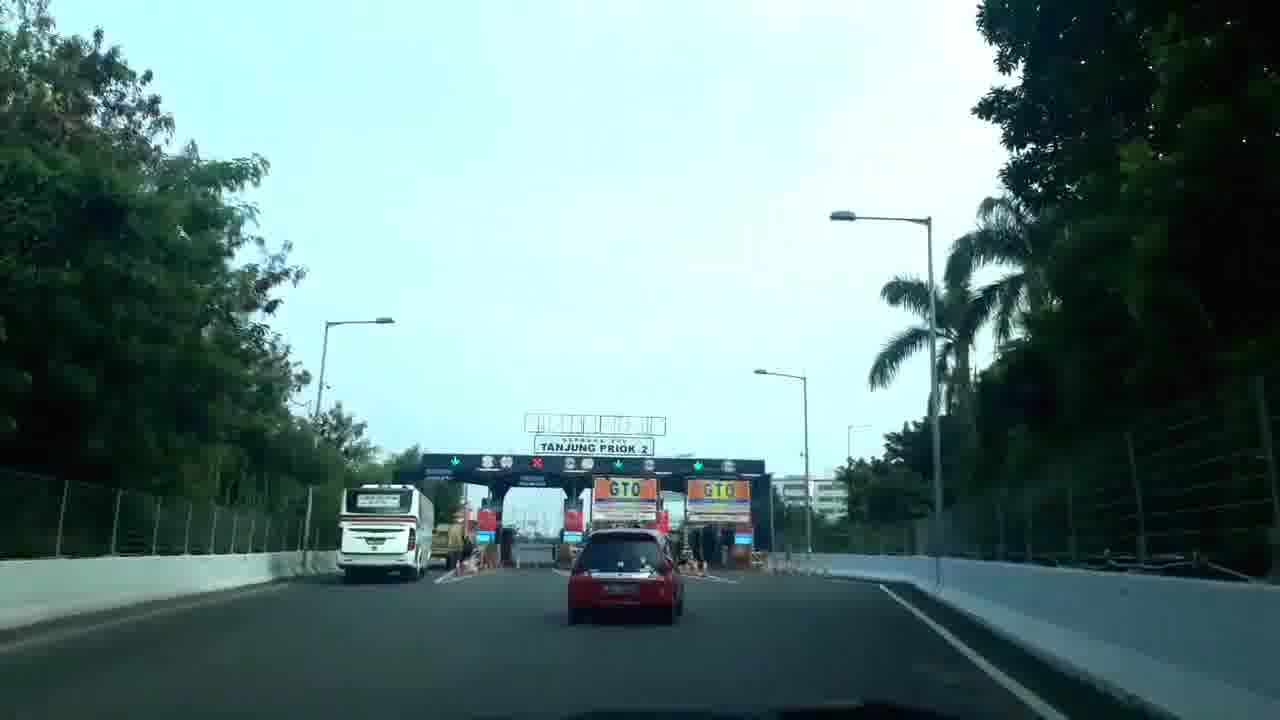plate_positive: (605, 583, 639, 594)
